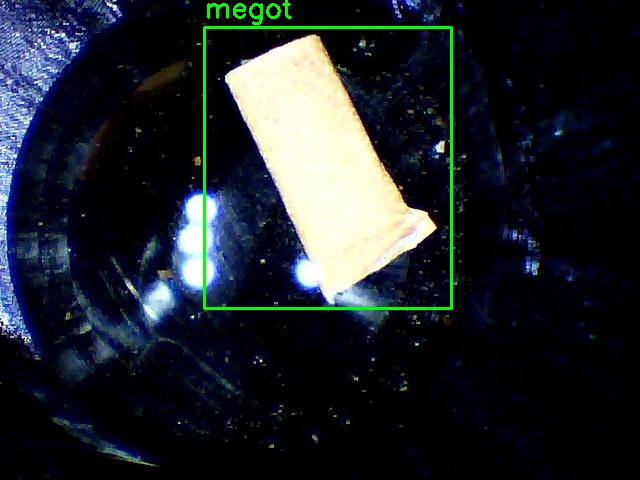megot: (204, 27, 451, 308)
